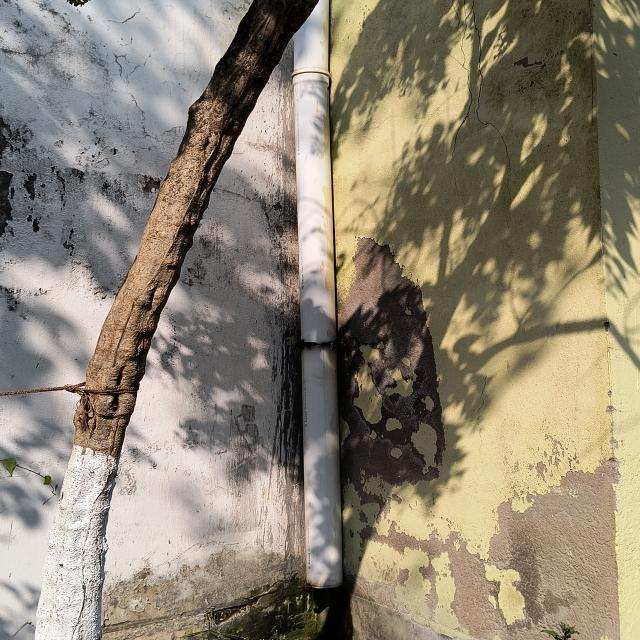Crack: (450, 0, 512, 206)
pollution -moisture induced blackening: (101, 43, 304, 640), (337, 239, 622, 640), (0, 0, 250, 326), (475, 0, 599, 225), (180, 576, 352, 640)
